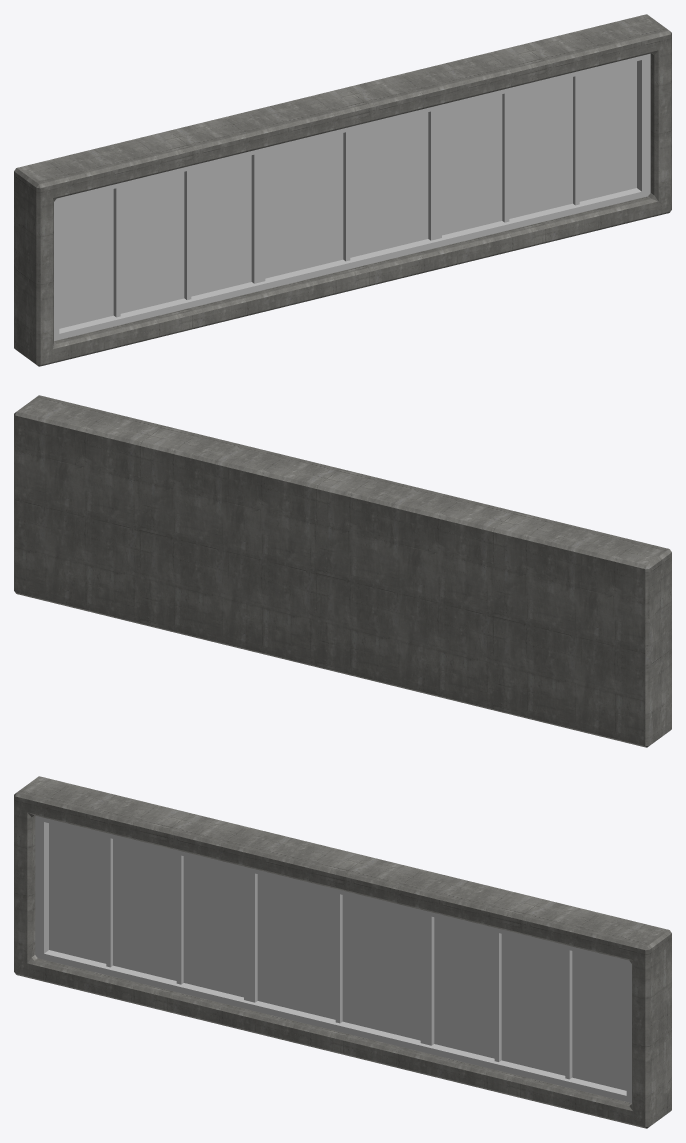
The model's file is Kitbash3D_Brutalist_Window03.fbx.
3 views of the same model, one above another, from view 1: azimuth 30°, elevation 25°; view 2: azimuth 150°, elevation 25°; view 3: azimuth 330°, elevation 25° (orthographic).
Visible parts, largest first — view 1: LG_WinPod_A_WinGlass, LG_WinPod_A_WinPod_Shell, LG_WinPod_A_WinPod_Mull; view 2: LG_WinPod_A_WinPod_Shell; view 3: LG_WinPod_A_WinGlass, LG_WinPod_A_WinPod_Shell, LG_WinPod_A_WinPod_Mull.
Boxes of the visible parts, x1,y1,x2,y2 form: LG_WinPod_A_WinGlass: [59, 61, 636, 328]; LG_WinPod_A_WinPod_Shell: [14, 14, 671, 366]; LG_WinPod_A_WinPod_Mull: [54, 53, 650, 340]; LG_WinPod_A_WinPod_Shell: [14, 395, 671, 747]; LG_WinPod_A_WinGlass: [49, 823, 626, 1090]; LG_WinPod_A_WinPod_Shell: [14, 776, 671, 1128]; LG_WinPod_A_WinPod_Mull: [35, 815, 631, 1102].
Bounding box in the file's own units: 7.8 × 2.14 × 0.5418.
